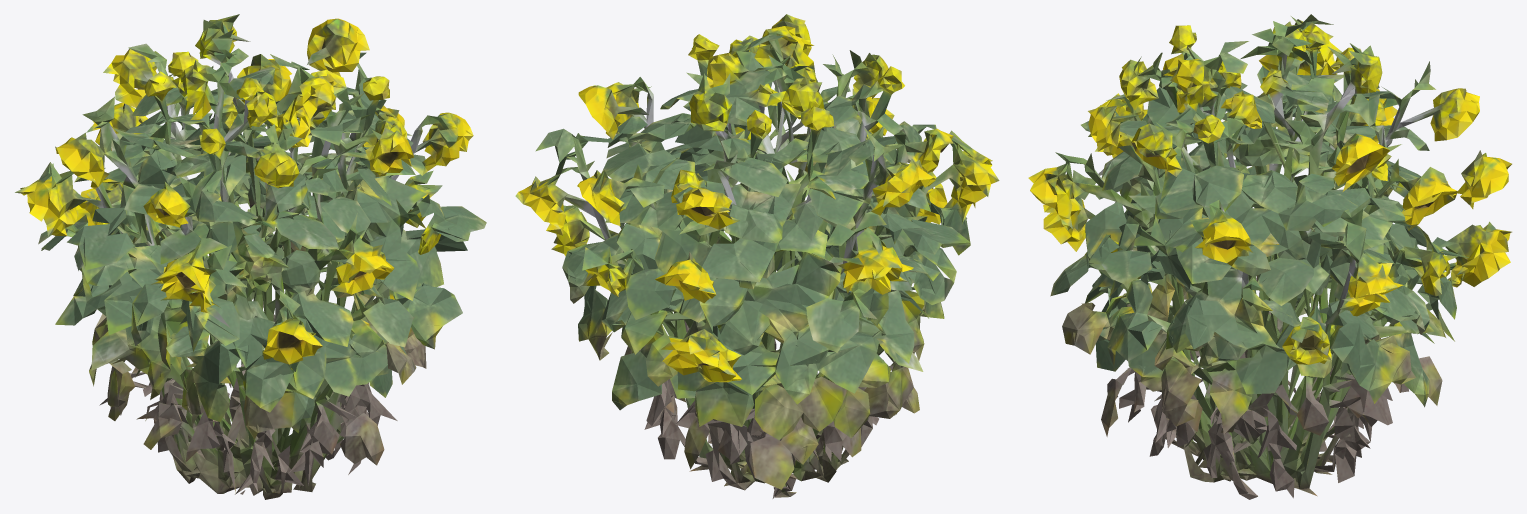
File: k_sunflowers.obj
The picture shows the model from 3 angles, left to right: view 1: azimuth 30°, elevation 25°; view 2: azimuth 150°, elevation 25°; view 3: azimuth 270°, elevation 25°; orthographic projection. The views are drawn at different scales.
Parts seen in each view (by area): view 1: k_sunflowers; view 2: k_sunflowers; view 3: k_sunflowers.
Part boxes in pixels (<box>): k_sunflowers: <box>15,14,486,499</box>; k_sunflowers: <box>515,14,999,498</box>; k_sunflowers: <box>1028,14,1511,499</box>.
Bounding box in the file's own units: 2.86 × 2.99 × 3.
Materials: 1 (1 with a texture image).
